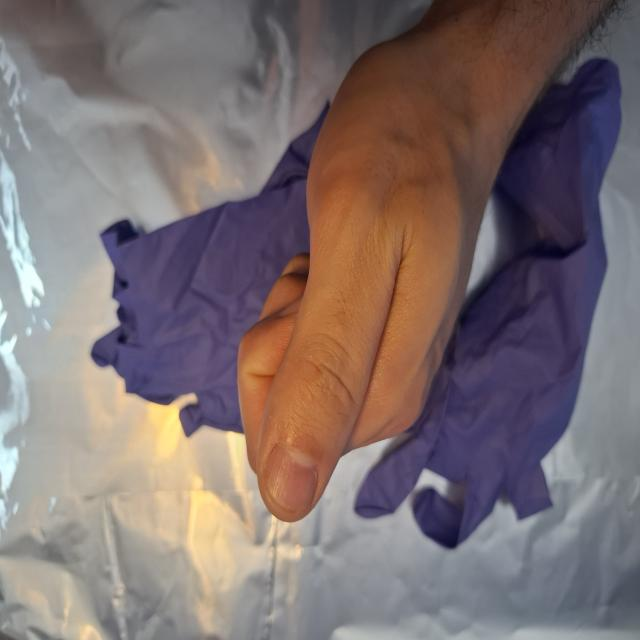glove_off: (235, 9, 542, 528)
